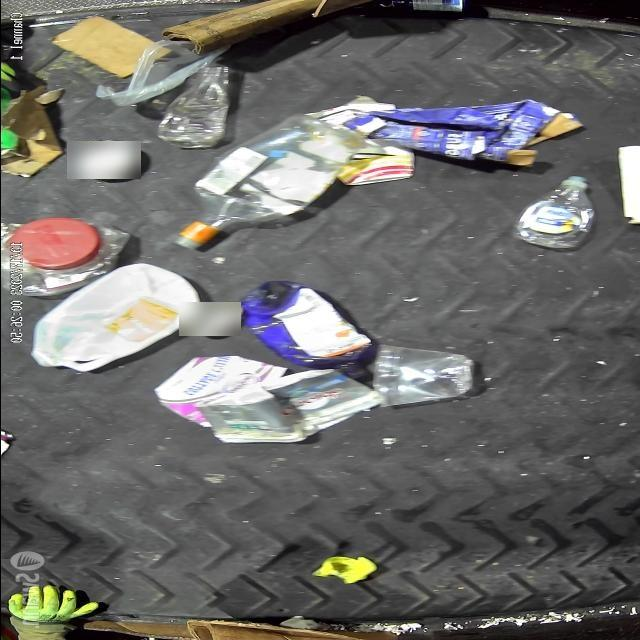milk_jug: (28, 264, 200, 372)
plastic_bottle: (172, 112, 364, 250), (154, 64, 234, 148), (512, 176, 592, 252)
